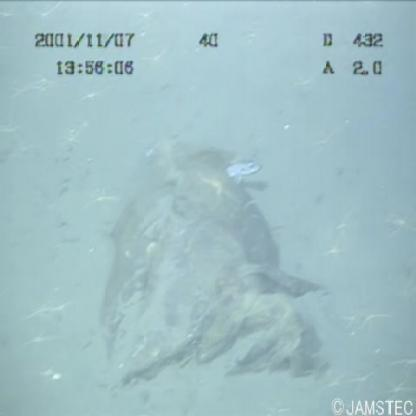Bio: (213, 142, 267, 184)
Rác: (60, 126, 328, 401)
